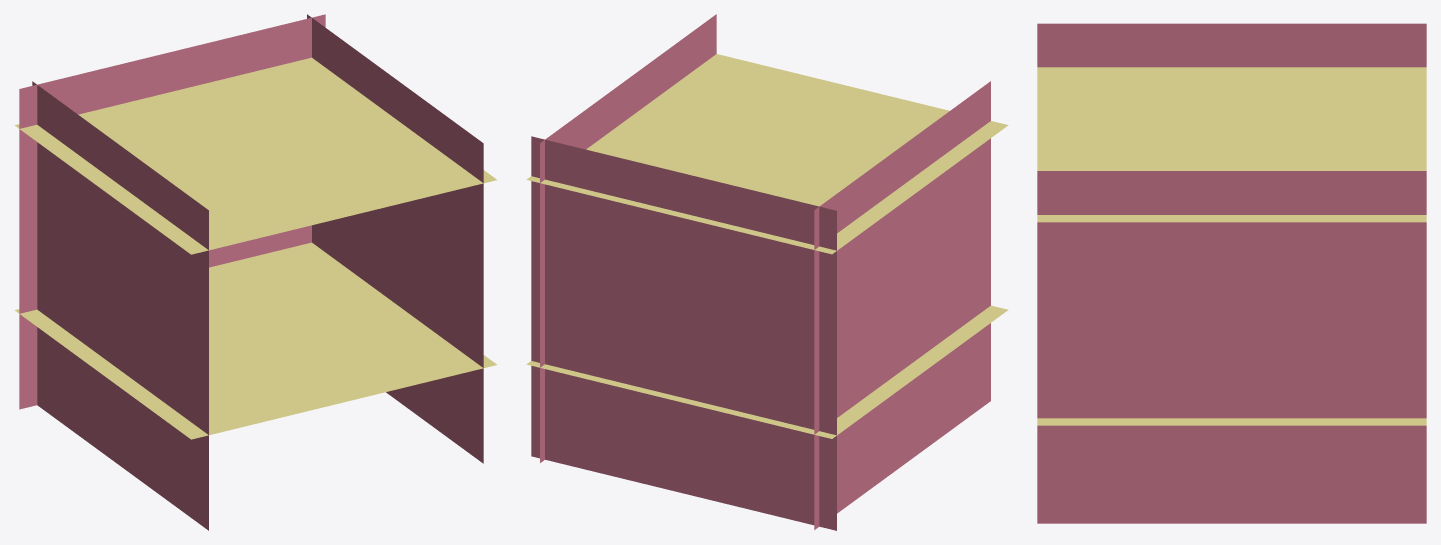
Rendered from monkey.gltf.glb.
3 renders of one model, left to right at view 1: azimuth 30°, elevation 25°; view 2: azimuth 150°, elevation 25°; view 3: azimuth 270°, elevation 25°, orthographic. The views are drawn at different scales.
Visible parts, largest first — view 1: Plane.002, Plane.001, Plane.004, Plane, Plane.006; view 2: Plane.006, Plane.002, Plane.001, Plane, Plane.004; view 3: Plane, Plane.001, Plane.002, Plane.004.
Part boxes in pixels (bbox=[...]): Plane.002: bbox=[32, 81, 208, 530]; Plane.001: bbox=[15, 57, 496, 254]; Plane.004: bbox=[14, 242, 496, 439]; Plane: bbox=[307, 14, 483, 463]; Plane.006: bbox=[19, 14, 325, 409]; Plane.006: bbox=[531, 136, 836, 530]; Plane.002: bbox=[814, 81, 990, 529]; Plane.001: bbox=[526, 54, 1008, 254]; Plane: bbox=[540, 14, 716, 462]; Plane.004: bbox=[526, 305, 1008, 438]; Plane: bbox=[1037, 171, 1426, 523]; Plane.001: bbox=[1037, 67, 1426, 222]; Plane.002: bbox=[1037, 23, 1426, 67]; Plane.004: bbox=[1037, 418, 1426, 425].
Size of the model in its own units: 10.9 by 10.9 by 10.9.
